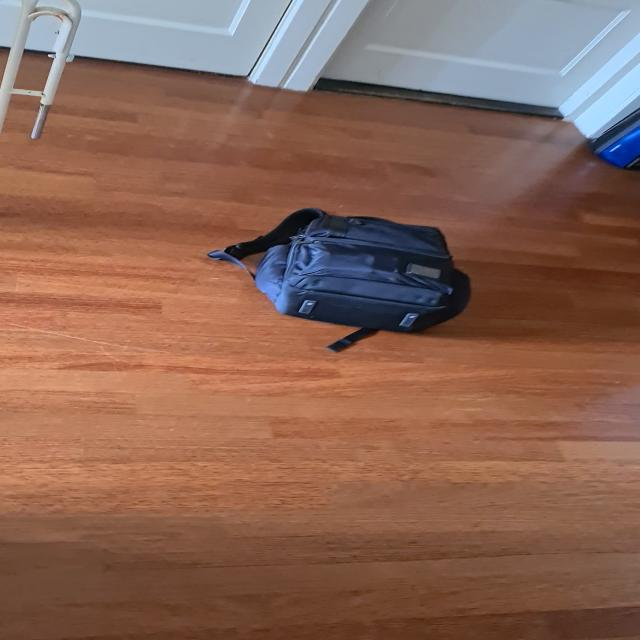backpack: (238, 203, 480, 341)
